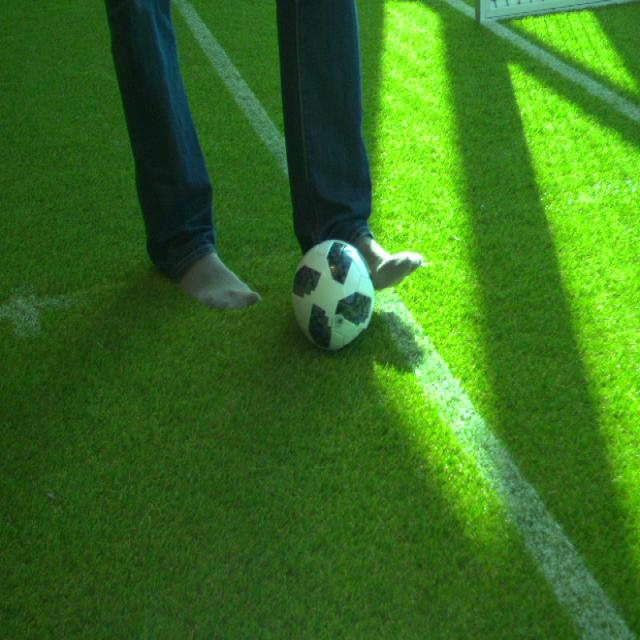ball: (290, 236, 377, 352)
goalpost: (476, 0, 491, 24)
